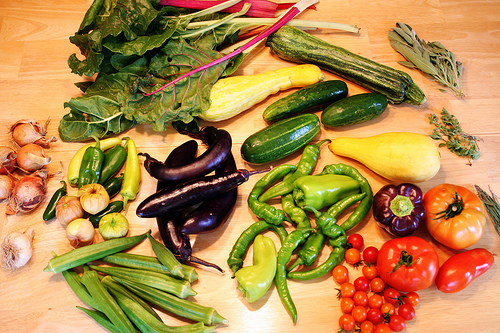cucumber: (240, 112, 321, 166), (261, 80, 348, 124), (322, 90, 389, 130)
